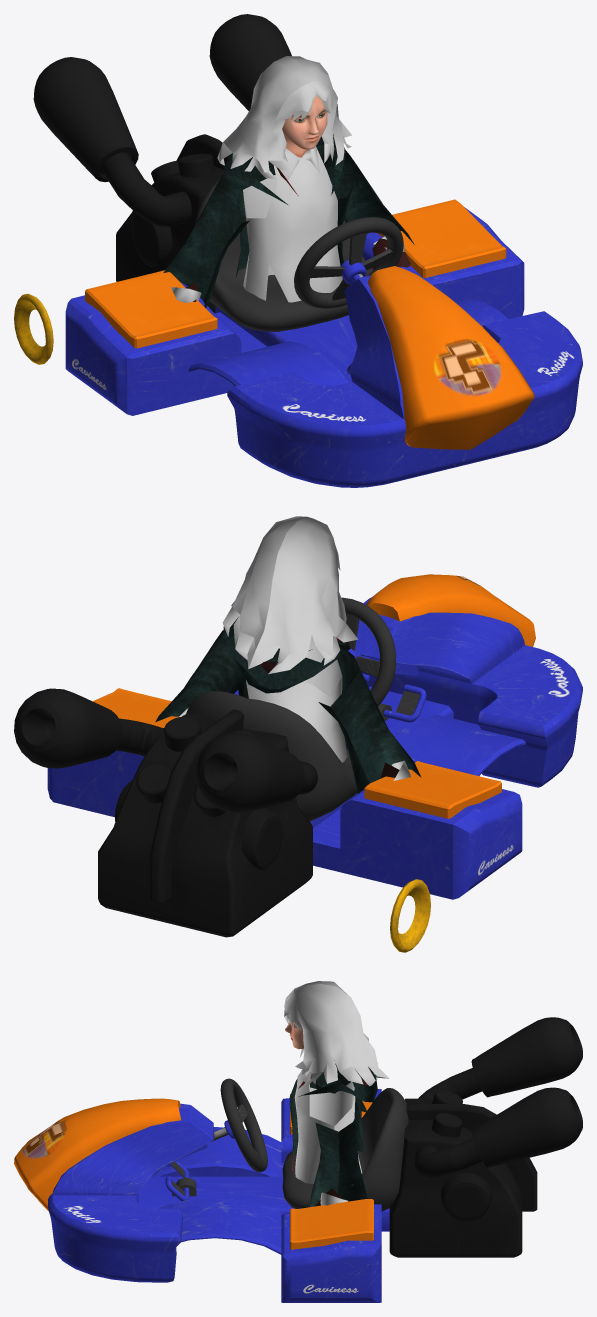
The model's file is CarroCompleto.obj.
3 views of the same model, one above another, from view 1: azimuth 30°, elevation 25°; view 2: azimuth 150°, elevation 25°; view 3: azimuth 270°, elevation 25° (orthographic). The views are drawn at different scales.
Visible parts, largest first — view 1: GoKart_blinn1SG.001, GoKart_material_3, GoKart_lambert2SG.001, GoKart_material_1, GoKart_material_9, GoKart_material_4, GoKart_material_8, GoKart_material_2; view 2: GoKart_blinn1SG.001, GoKart_material_9, GoKart_material_1, GoKart_lambert2SG.001, GoKart_material_3, GoKart_material_8; view 3: GoKart_blinn1SG.001, GoKart_lambert2SG.001, GoKart_material_9, GoKart_material_1, GoKart_material_3, GoKart_material_8, GoKart_material_2.
Boxes of the visible parts, x1=… form: GoKart_blinn1SG.001: x1=14, y1=14, x2=582, y2=487; GoKart_material_3: x1=170, y1=146, x2=404, y2=302; GoKart_lambert2SG.001: x1=194, y1=178, x2=403, y2=331; GoKart_material_1: x1=163, y1=134, x2=414, y2=307; GoKart_material_9: x1=223, y1=56, x2=343, y2=172; GoKart_material_4: x1=282, y1=96, x2=327, y2=157; GoKart_material_8: x1=217, y1=100, x2=351, y2=178; GoKart_material_2: x1=235, y1=185, x2=346, y2=277; GoKart_blinn1SG.001: x1=14, y1=574, x2=582, y2=952; GoKart_material_9: x1=231, y1=516, x2=346, y2=663; GoKart_material_1: x1=155, y1=617, x2=421, y2=794; GoKart_lambert2SG.001: x1=186, y1=597, x2=419, y2=821; GoKart_material_3: x1=178, y1=635, x2=410, y2=780; GoKart_material_8: x1=222, y1=607, x2=358, y2=674; GoKart_blinn1SG.001: x1=14, y1=1017, x2=582, y2=1302; GoKart_lambert2SG.001: x1=171, y1=1078, x2=408, y2=1211; GoKart_material_9: x1=284, y1=981, x2=378, y2=1083; GoKart_material_1: x1=289, y1=1060, x2=377, y2=1207; GoKart_material_3: x1=294, y1=1060, x2=362, y2=1205; GoKart_material_8: x1=284, y1=1004, x2=389, y2=1086; GoKart_material_2: x1=291, y1=1084, x2=364, y2=1171.
Size of the model in its own units: 1.64 by 1.2 by 2.42.
